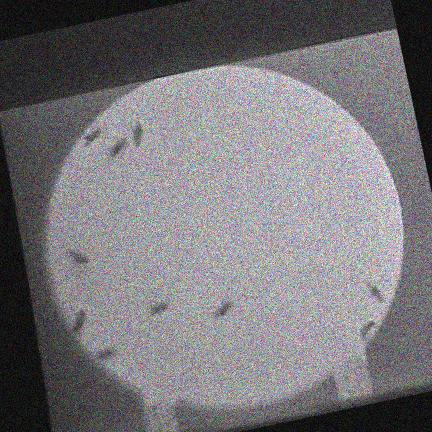fly: (106, 137, 127, 158), (212, 300, 233, 318), (71, 308, 84, 333), (359, 319, 375, 339), (148, 300, 169, 315), (367, 281, 382, 302), (83, 126, 100, 144), (68, 249, 88, 264), (131, 122, 143, 145), (95, 347, 116, 359)
